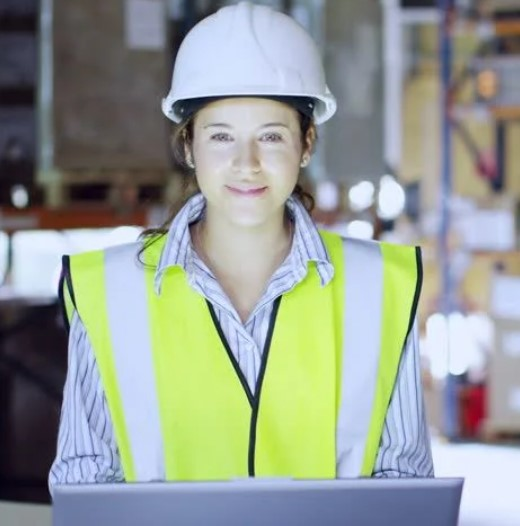worker: (62, 2, 423, 478)
